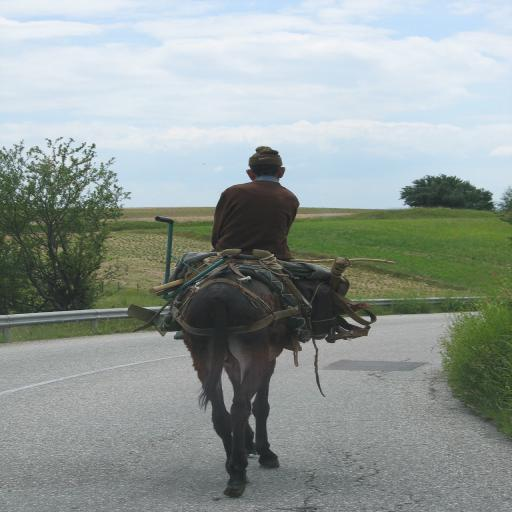Horse: (171, 269, 294, 497)
